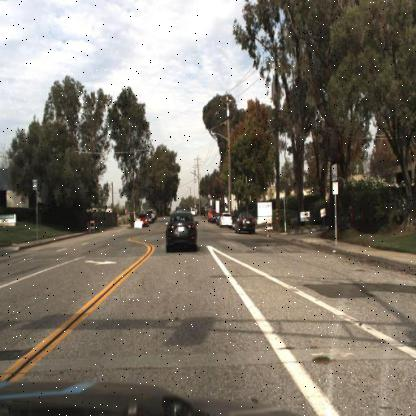car: (164, 210, 198, 247), (233, 208, 257, 236), (233, 213, 257, 232), (219, 208, 234, 230), (219, 211, 234, 228), (138, 208, 150, 228)
